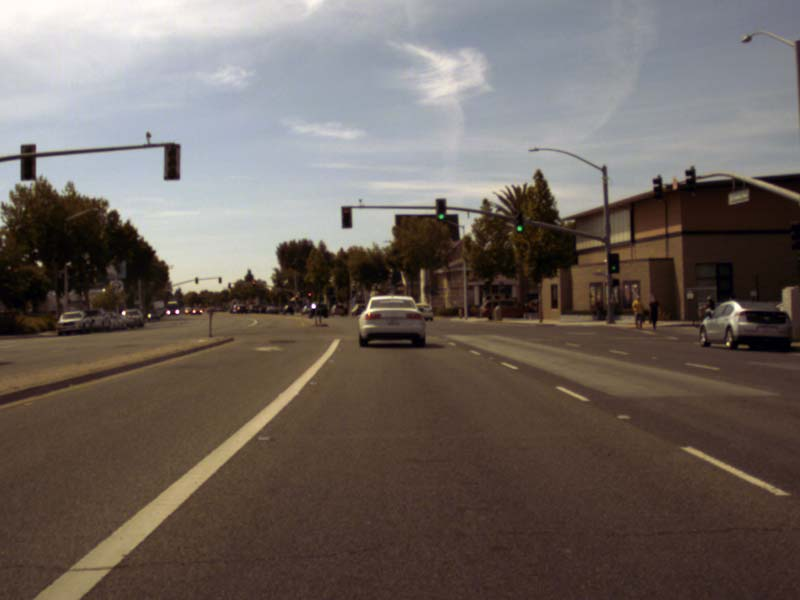Green: (435, 198, 445, 220), (607, 253, 618, 272), (515, 212, 523, 233)
Red: (341, 206, 351, 228), (306, 291, 311, 298), (251, 280, 255, 288), (294, 294, 298, 299)
